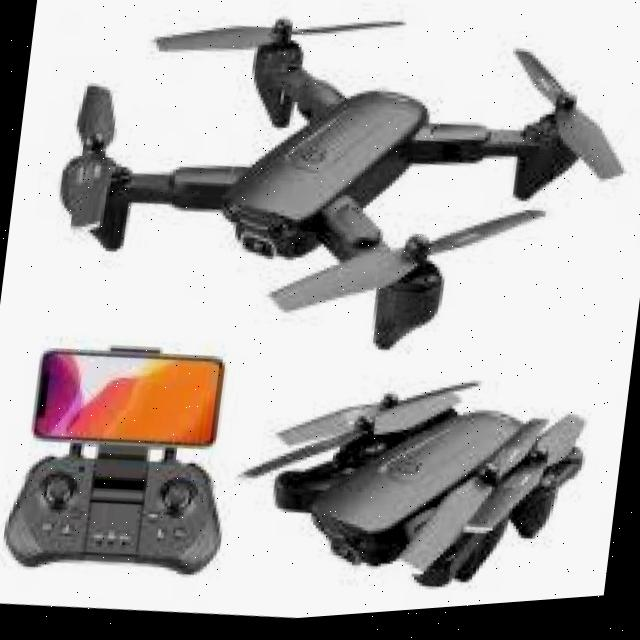drone: (14, 0, 640, 405)
